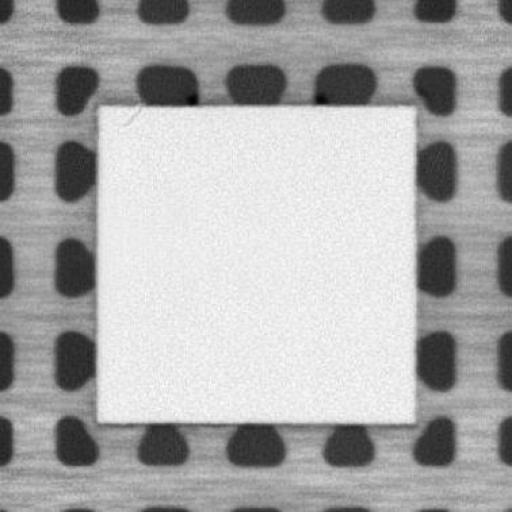DIE_CRACK: (119, 104, 144, 130)
